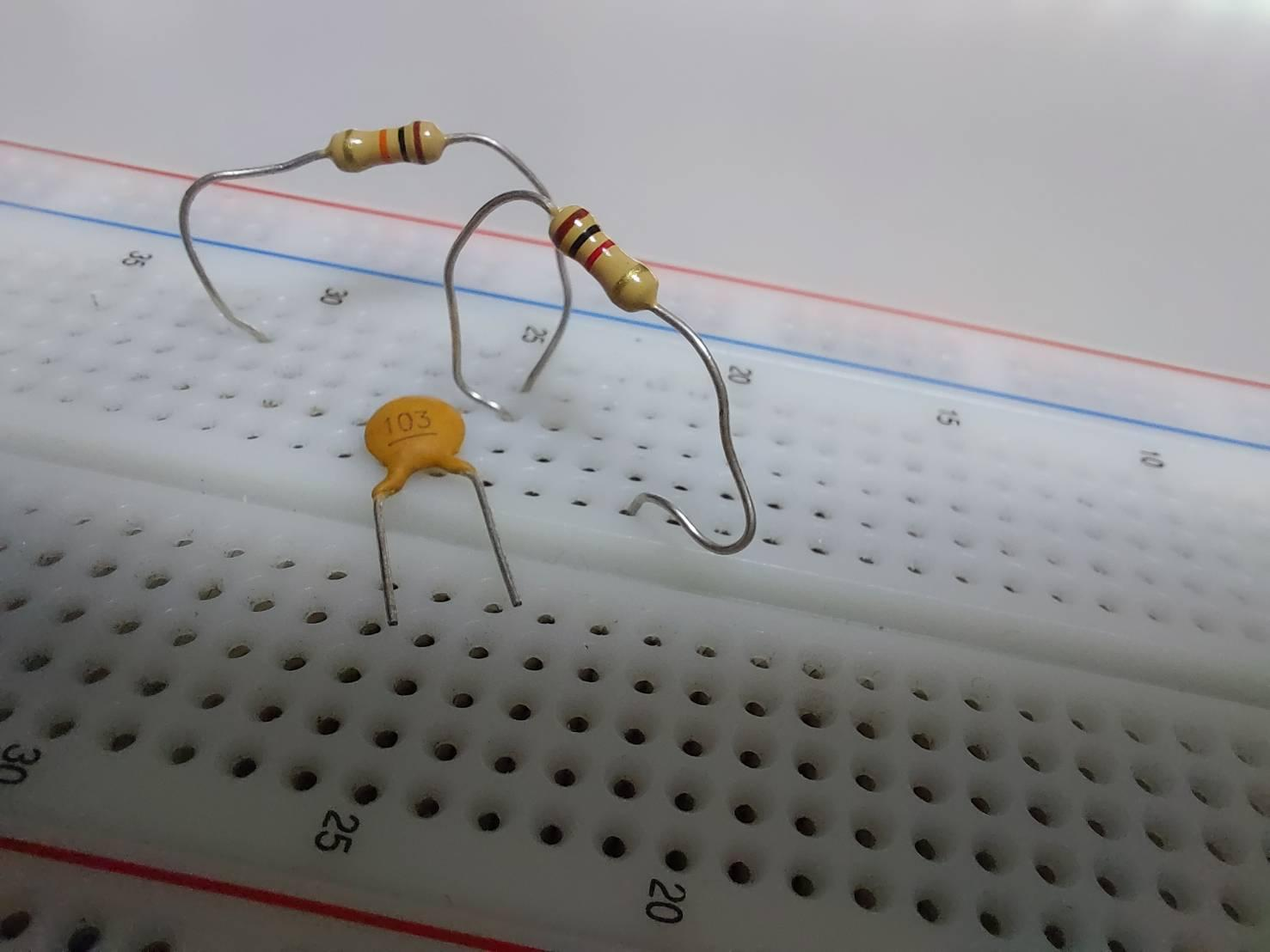resistor: (542, 198, 666, 317), (322, 121, 456, 173)
